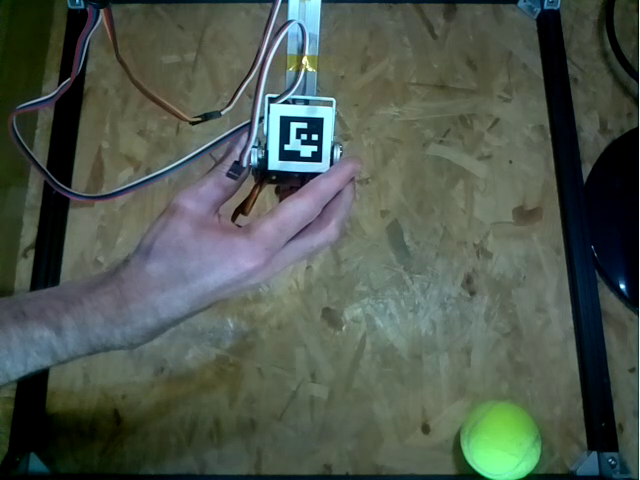tennis_ball: (461, 401, 544, 480)
